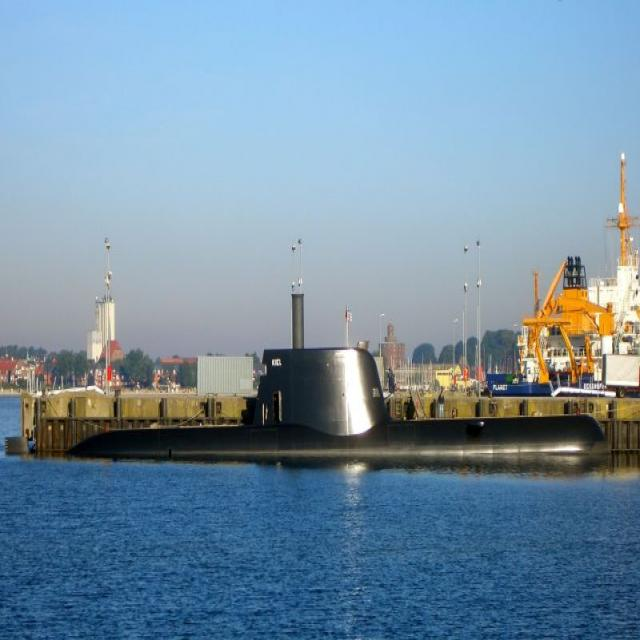submarine: (65, 295, 613, 455)
